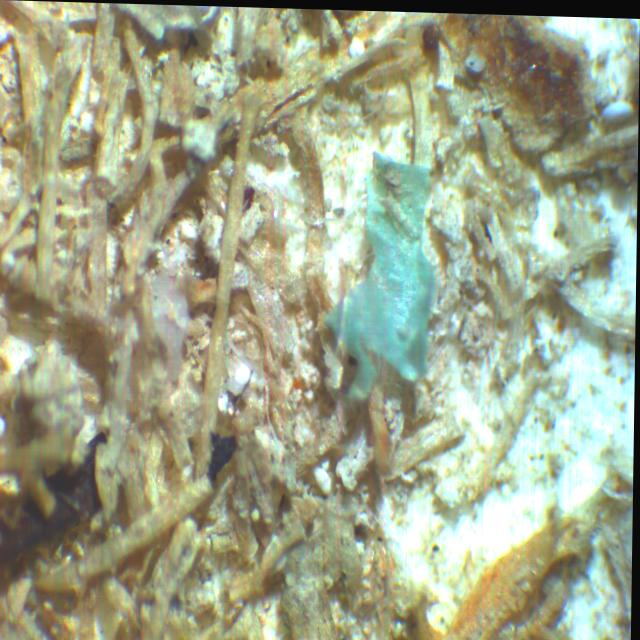microplastic: (322, 148, 437, 401)
